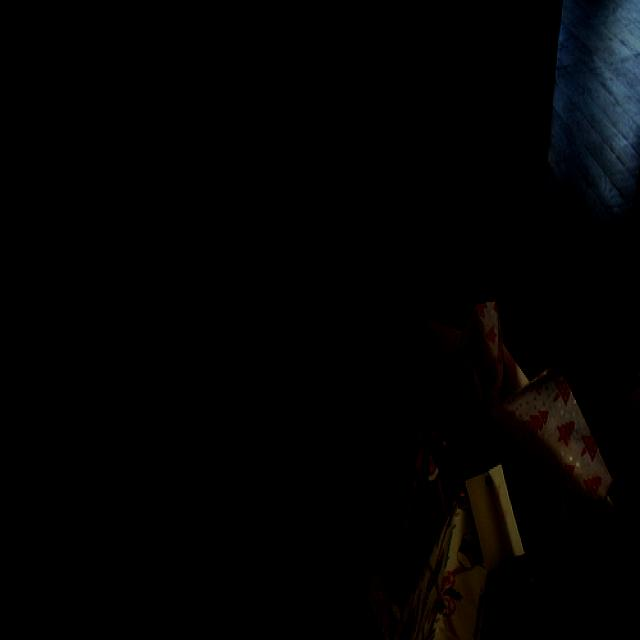Dog: (62, 149, 562, 497)
